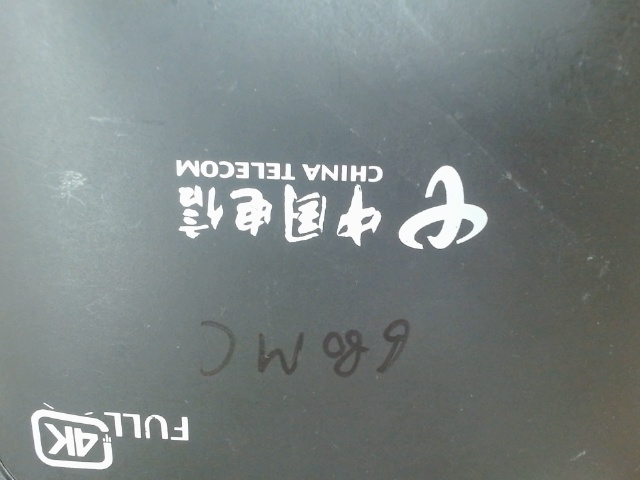AB_ChinaTelecom: (156, 140, 496, 269)
